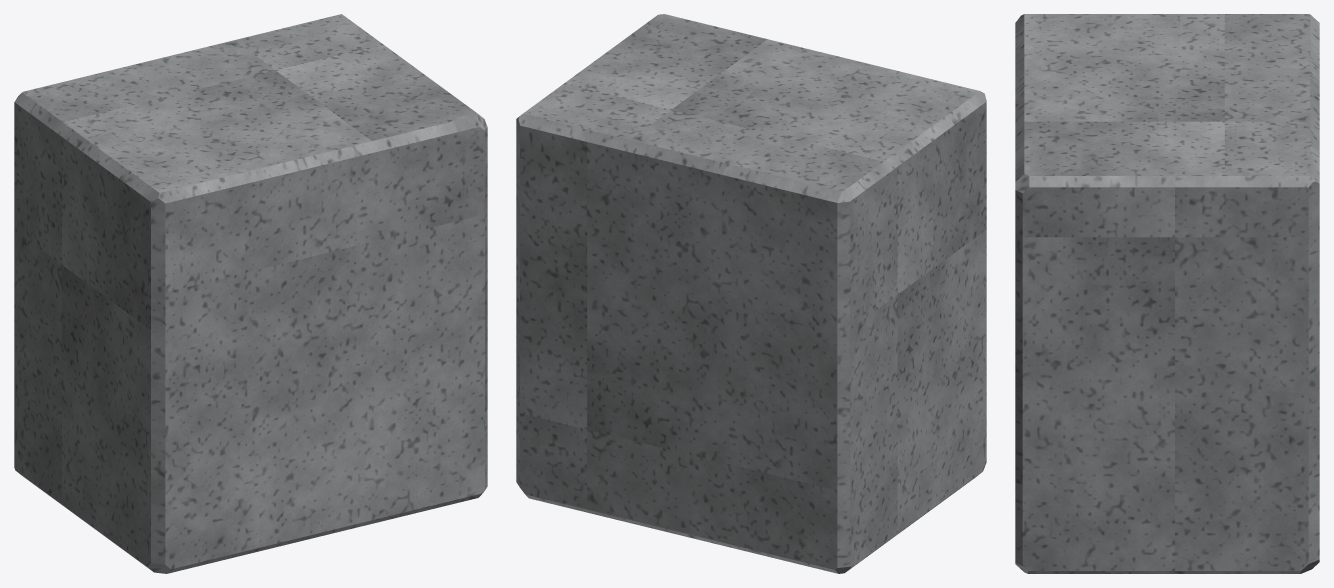
The model's file is limestone-block-01.glb.
The picture shows the model from 3 angles, left to right: view 1: azimuth 30°, elevation 25°; view 2: azimuth 150°, elevation 25°; view 3: azimuth 270°, elevation 25°; orthographic projection. The views are drawn at different scales.
Parts seen in each view (by area): view 1: limestone-block-01; view 2: limestone-block-01; view 3: limestone-block-01.
Part boxes in pixels (left/top/right/bottom): limestone-block-01: left=14, top=14, right=487, bottom=573; limestone-block-01: left=516, top=14, right=986, bottom=573; limestone-block-01: left=1015, top=14, right=1319, bottom=573.
Bounding box in the file's own units: 0.28 × 0.3058 × 0.2123.
1 material, 1 textured.
